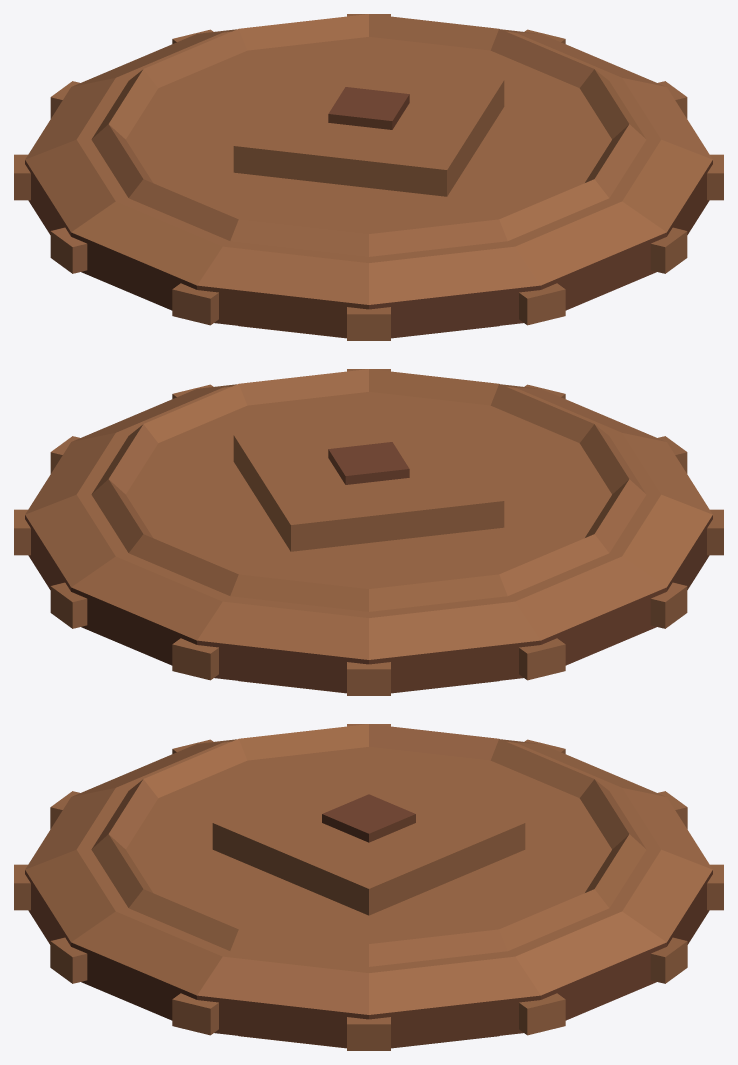
File: item_coin_copper.glb
3 renders of one model, top to bottom at view 1: azimuth 30°, elevation 25°; view 2: azimuth 150°, elevation 25°; view 3: azimuth 270°, elevation 25°, orthographic.
Visible parts, largest first — view 1: item_coin_copper; view 2: item_coin_copper; view 3: item_coin_copper.
Boxes of the visible parts, x1,y1,x2,y2 form: item_coin_copper: (14,14,723,340); item_coin_copper: (14,369,723,695); item_coin_copper: (14,724,723,1050).
Size of the model in its own units: 0.289 by 0.066 by 0.289.
